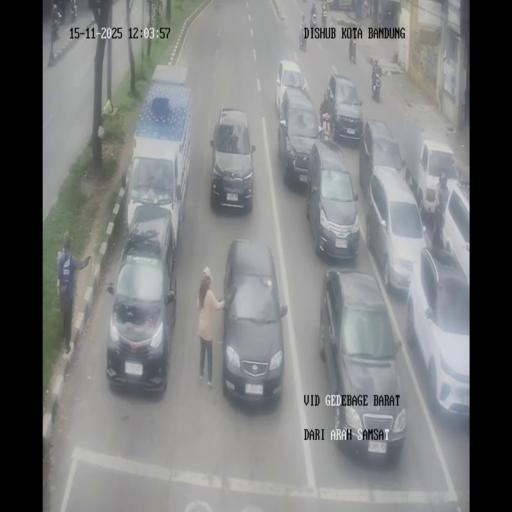car: (320, 269, 404, 460), (105, 204, 179, 391), (406, 243, 469, 425), (220, 240, 286, 408), (366, 167, 425, 296), (307, 138, 360, 262), (209, 106, 257, 213), (277, 87, 319, 188), (325, 73, 364, 144)
motorcycle: (371, 72, 381, 102), (50, 12, 60, 41), (326, 109, 335, 136), (310, 3, 317, 28), (299, 27, 306, 51), (349, 42, 356, 64), (321, 4, 327, 28), (362, 0, 370, 18), (70, 2, 77, 22), (324, 0, 332, 9), (378, 10, 382, 25)
truck: (404, 127, 458, 217), (329, 0, 353, 11)
